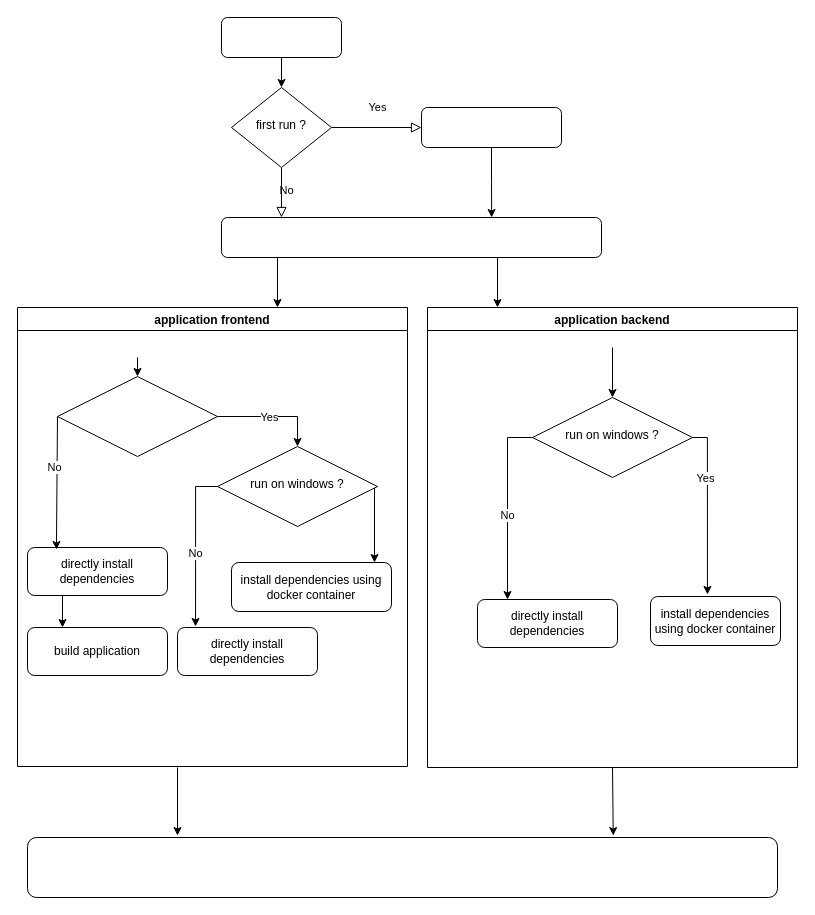
Some shapes in this 815 by 915 pixel diagram are drawn without their labels. The shapes that lost their labels are listed below. From the top down, each one's centre as x and y in pixels, then its label:
At point (281, 37): "clone portal repo".
At point (491, 127): "configure nexus token".
At point (411, 237): "configure cluster if needed".
At point (137, 416): "run development mode ?".
At point (402, 867): "run containers with `docker-compose up` command".
